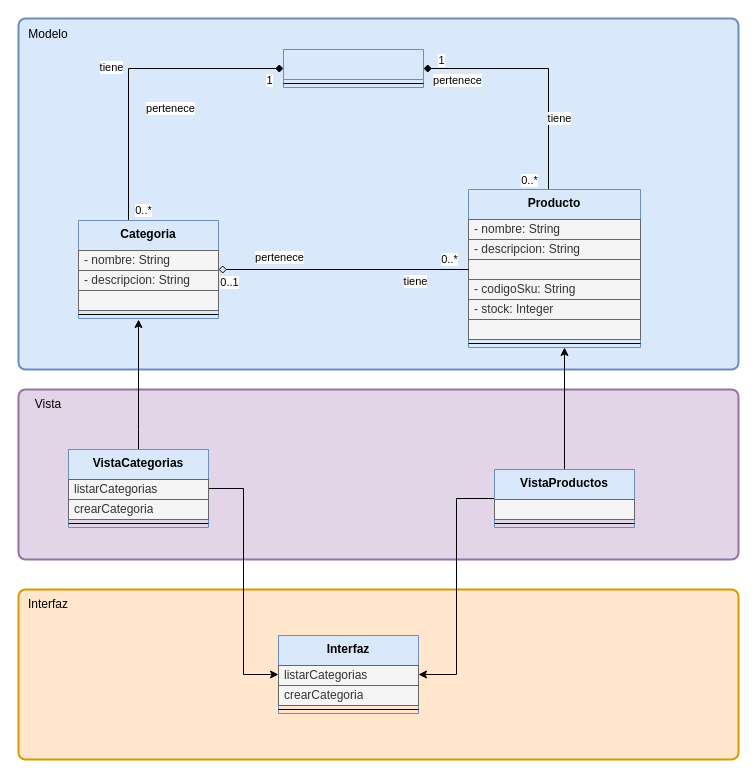
Image size: 756x777. Some labels were removed from this diagram. The shapes that lost their labels are listed below. From the top down, each one's centre as x and y in pixels, then its label:
At [353,68]: "TiendaShopFlow".
At [554,269]: "- precio: Double".
At [148,300]: "- estado: Boolean".
At [554,329]: "- categoria: String (Opcional )".
At [564,509]: "listarProductos".
